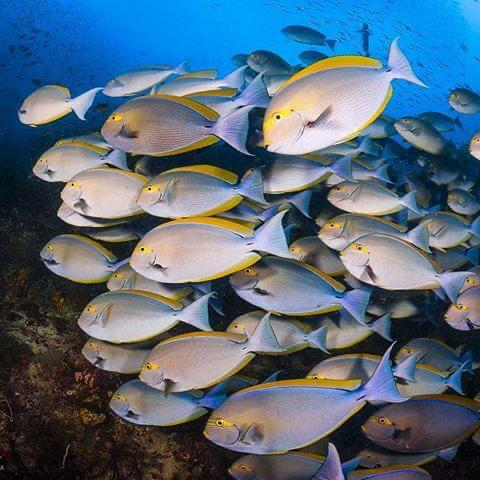Acanthuridae -Surgeonfishes-: (201, 336, 403, 457), (261, 31, 419, 154), (126, 208, 290, 282), (226, 243, 369, 327), (134, 311, 276, 395), (97, 95, 262, 160), (339, 230, 458, 306), (74, 284, 216, 341), (105, 367, 230, 430), (359, 391, 478, 456), (36, 231, 140, 292), (60, 164, 163, 221), (237, 154, 359, 194), (12, 77, 97, 126), (227, 446, 356, 478), (325, 176, 422, 215), (96, 63, 194, 92), (395, 113, 455, 158), (441, 286, 479, 335), (447, 81, 479, 116), (448, 187, 479, 216)
